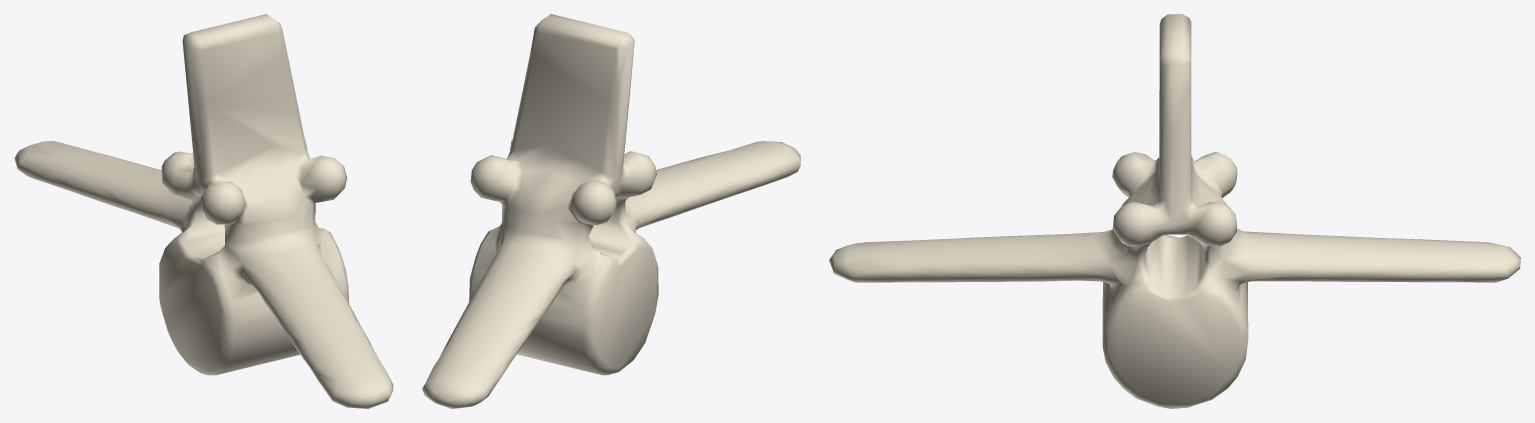
File: lumbar_4.glb
The picture shows the model from 3 angles, left to right: view 1: azimuth 30°, elevation 25°; view 2: azimuth 150°, elevation 25°; view 3: azimuth 270°, elevation 25°; orthographic projection.
Parts seen in each view (by area): view 1: geometry_0; view 2: geometry_0; view 3: geometry_0.
Part boxes in pixels (bbox=[...]): geometry_0: bbox=[14, 14, 393, 408]; geometry_0: bbox=[422, 14, 800, 408]; geometry_0: bbox=[829, 14, 1520, 408].
Size of the model in its own units: 0.1512 by 0.328 by 0.6084.
